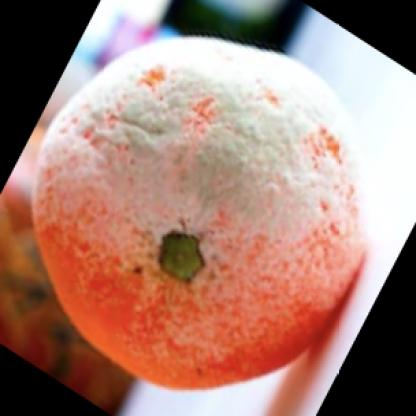rotten: (38, 38, 365, 389)
